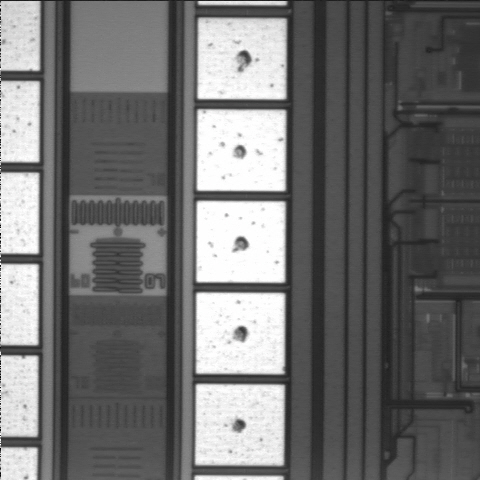pad: (197, 109, 286, 191), (196, 201, 285, 283), (195, 384, 284, 466), (197, 18, 286, 99), (196, 293, 285, 374)
